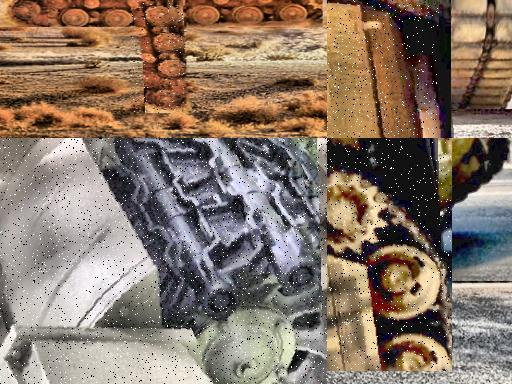tanks: (1, 139, 328, 384), (328, 139, 452, 371), (328, 1, 440, 139), (131, 2, 187, 114)
